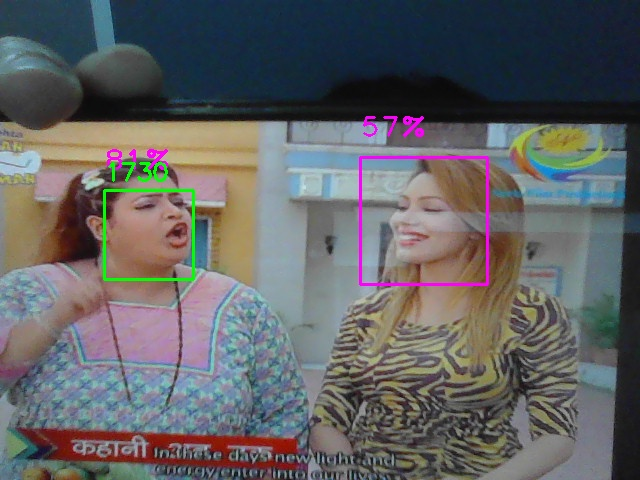fake: (104, 190, 194, 280)
